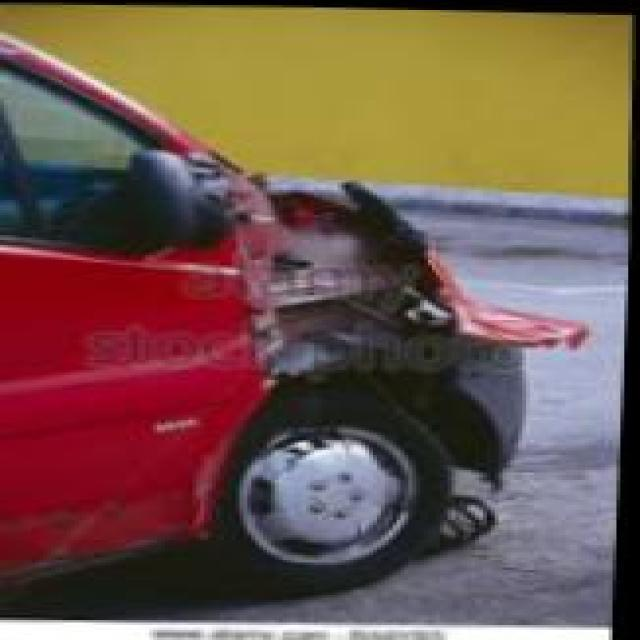Fender: (232, 174, 606, 393)
